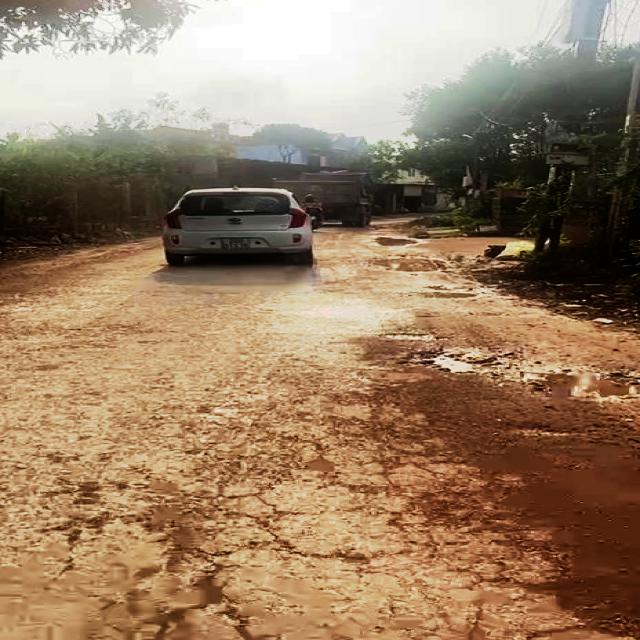pothole: (390, 347, 640, 402), (366, 253, 450, 274), (411, 286, 475, 301), (367, 235, 423, 249)
